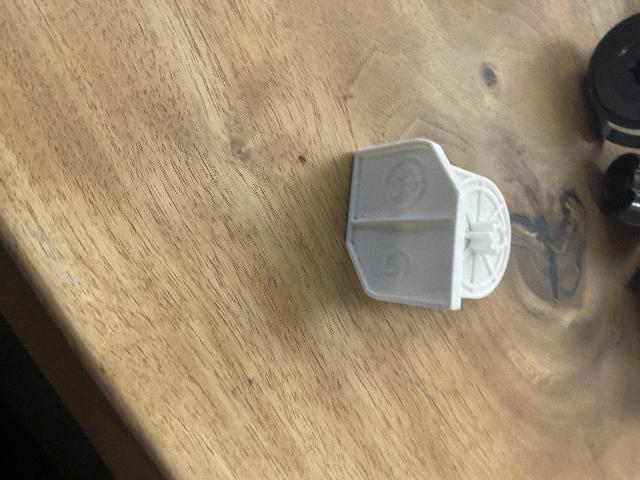Plastik: (344, 146, 514, 316)
